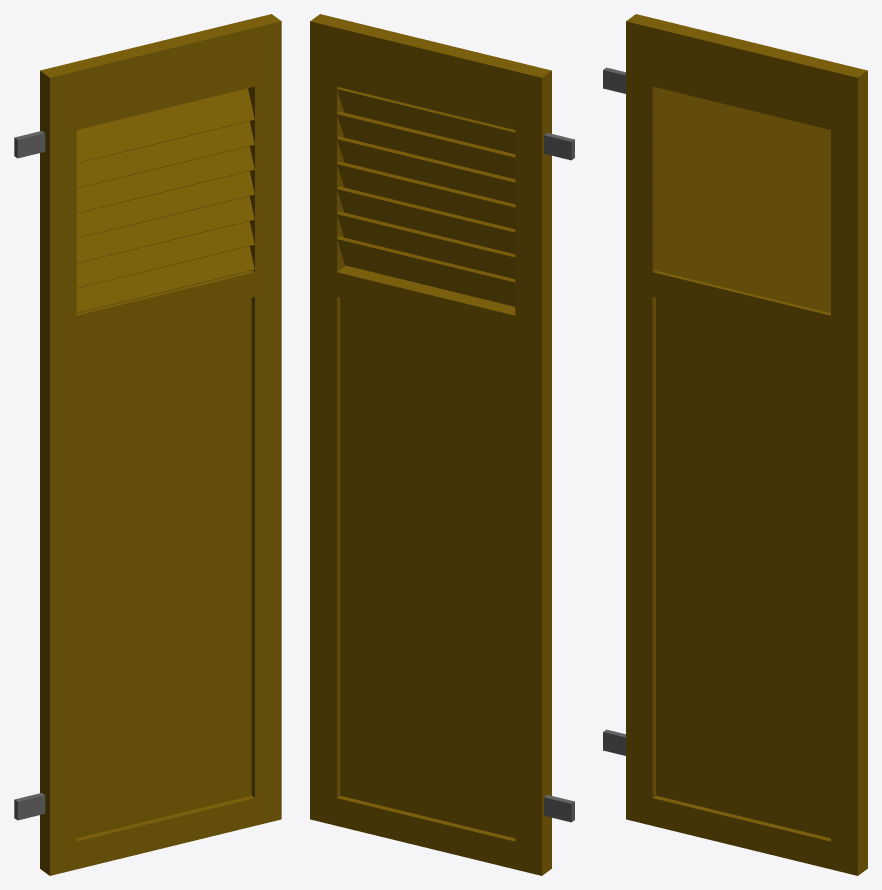
Rendered from sweethome3d-contributions-window-shutter-426.glb.
The picture shows the model from 3 angles, left to right: view 1: azimuth 30°, elevation 25°; view 2: azimuth 150°, elevation 25°; view 3: azimuth 330°, elevation 25°; orthographic projection.
Parts seen in each view (by area): view 1: 36_36, 37_37, 46_46, 39_39, 43_43, 40_40, 41_41, 44_44, 42_42, 35_35, 45_45, 47_47; view 2: 38_38, 37_37, 41_41, 43_43, 39_39, 40_40, 42_42, 44_44, 46_46, 35_35, 45_45, 47_47; view 3: 36_36, 37_37, 46_46, 41_41, 43_43, 40_40, 42_42, 39_39, 44_44, 35_35.
Part boxes in pixels (<box>): 36_36: <box>76,297,254,841</box>; 37_37: <box>40,14,281,875</box>; 46_46: <box>76,88,254,163</box>; 39_39: <box>76,221,254,288</box>; 43_43: <box>76,146,254,213</box>; 40_40: <box>76,196,254,263</box>; 41_41: <box>76,246,254,313</box>; 44_44: <box>76,121,254,188</box>; 42_42: <box>76,171,254,238</box>; 35_35: <box>76,86,254,315</box>; 45_45: <box>14,131,45,158</box>; 47_47: <box>14,793,45,820</box>; 38_38: <box>337,297,515,841</box>; 37_37: <box>310,14,551,875</box>; 41_41: <box>337,236,515,306</box>; 43_43: <box>337,136,515,203</box>; 39_39: <box>337,211,515,278</box>; 40_40: <box>337,186,515,253</box>; 42_42: <box>337,161,515,228</box>; 44_44: <box>337,111,515,178</box>; 46_46: <box>337,87,515,153</box>; 35_35: <box>337,86,515,315</box>; 45_45: <box>544,133,574,160</box>; 47_47: <box>544,795,574,822</box>; 36_36: <box>652,297,830,841</box>; 37_37: <box>626,14,867,875</box>; 46_46: <box>653,88,830,163</box>; 41_41: <box>653,246,830,313</box>; 43_43: <box>653,146,830,213</box>; 40_40: <box>653,196,830,263</box>; 42_42: <box>653,171,830,238</box>; 39_39: <box>653,221,830,288</box>; 44_44: <box>653,121,830,188</box>; 35_35: <box>652,86,830,315</box>.
Size of the model in its own units: 43.88 by 129 by 2.93.
